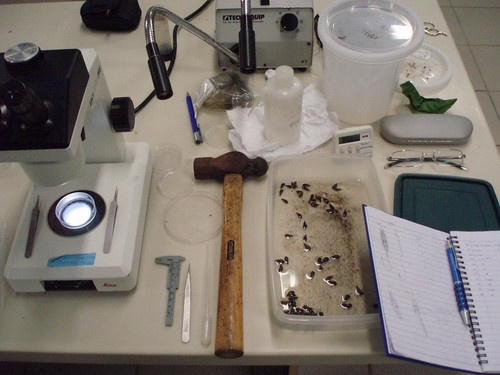hammer: (191, 150, 269, 360)
